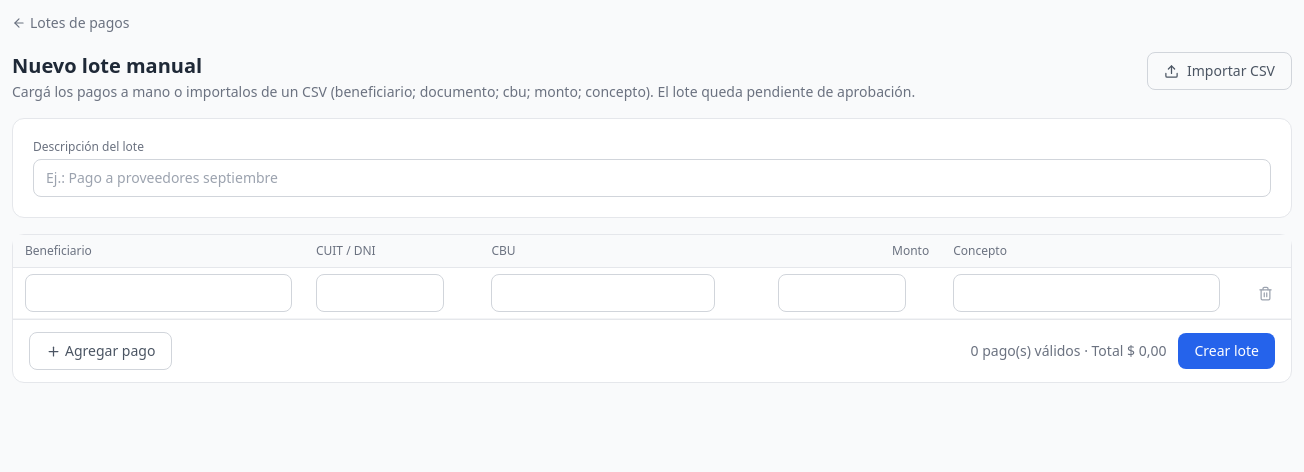
Scenario: NuevoLotePage › no manda filas inválidas
In the field with placeholder "Ej.: Pago a proveedores septiembre": (652, 178) [33,159,1271,197], type "X"
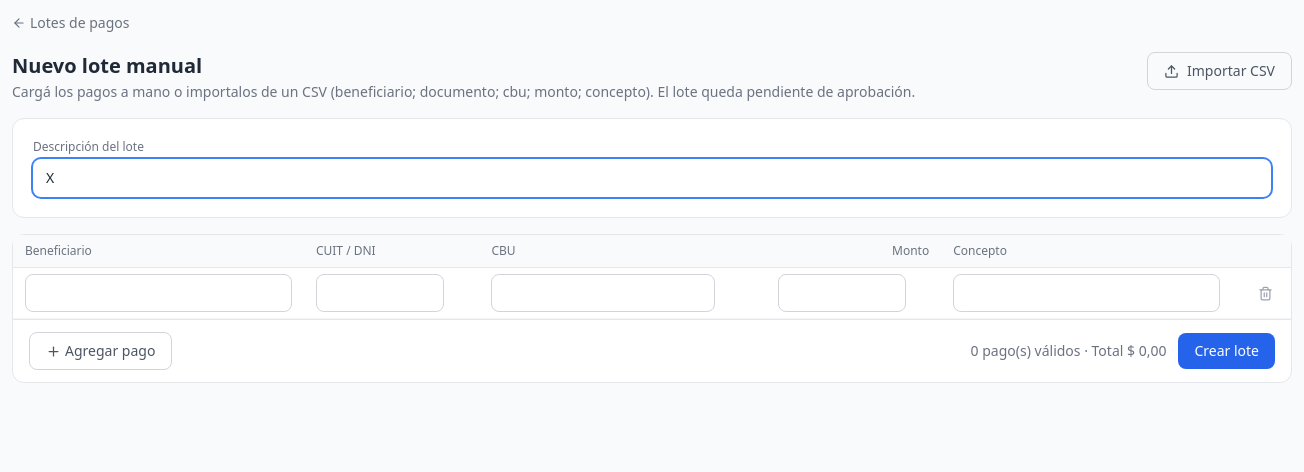
In the field named "Beneficiario 1": (158, 293) [25,274,292,312], type "ACME"
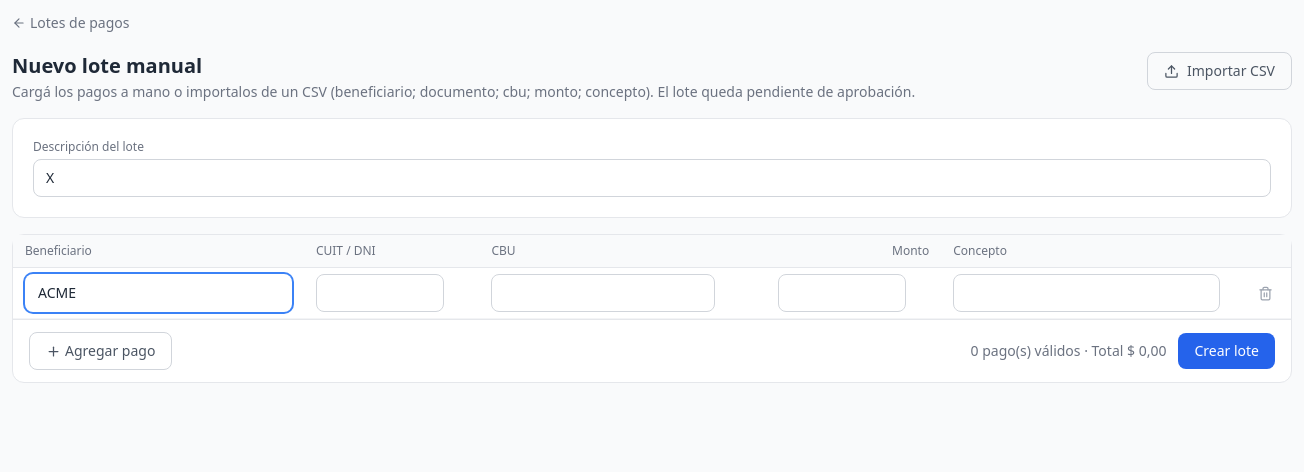
In the field named "CBU 1": (603, 293) [491,274,715,312], type "123"
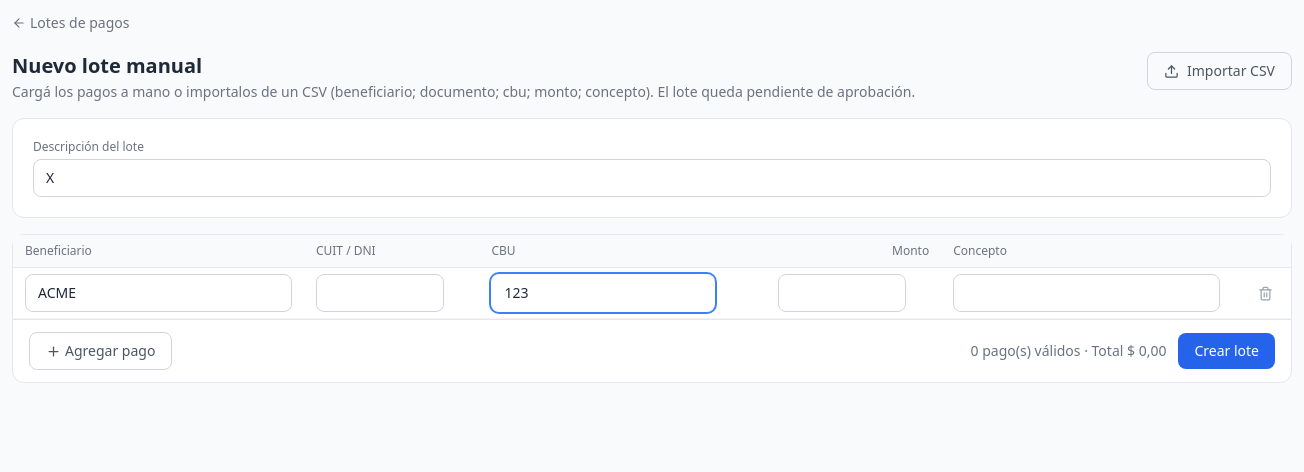
In the field named "Monto 1": (842, 293) [778,274,906,312], type "10"
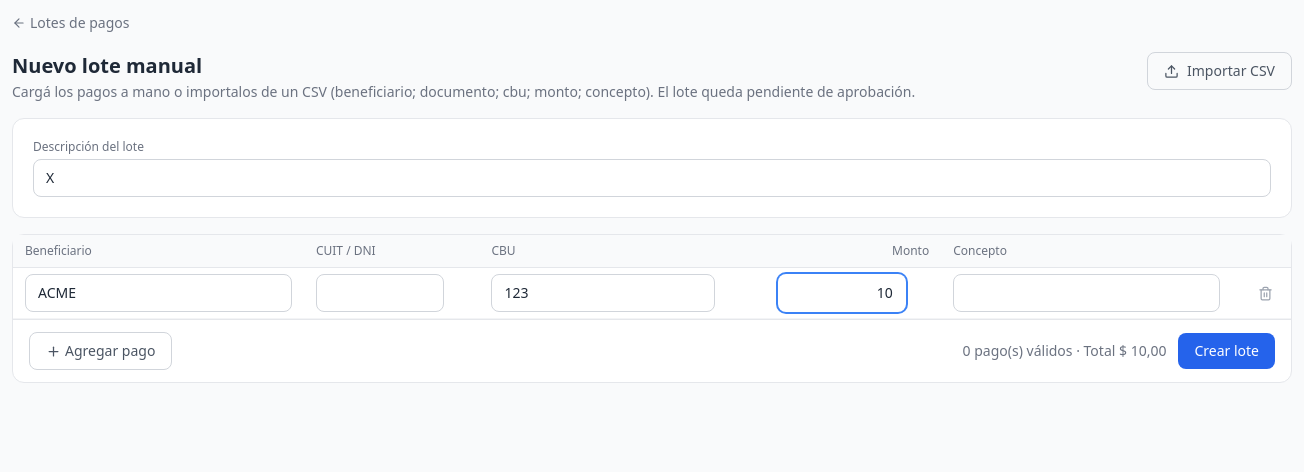
Click the button "Crear lote": (1227, 351) [1178,333,1275,369]
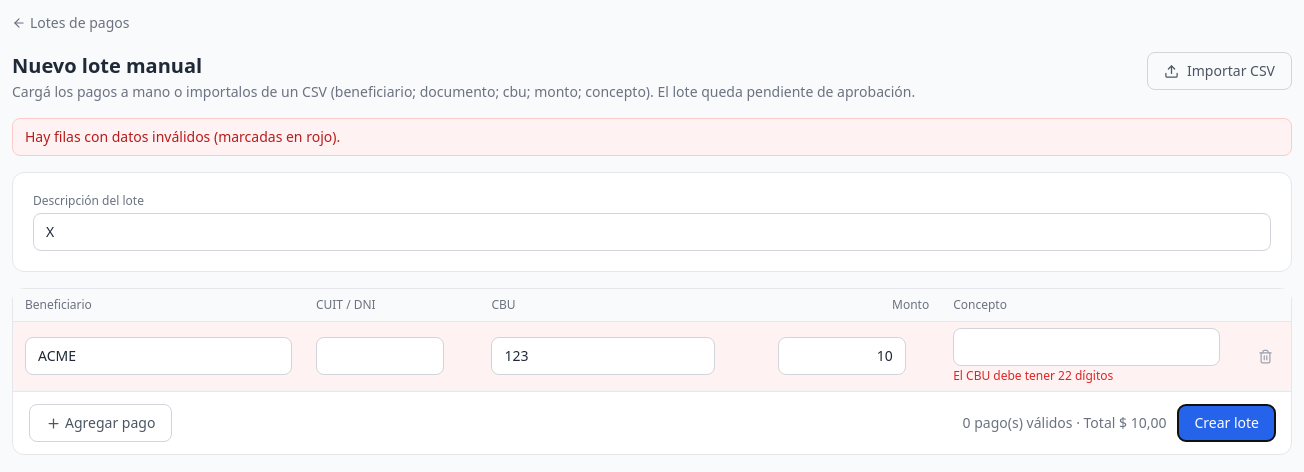
expect the text "El CBU debe tener 22 dígitos" is shown: met, box [953,367,1113,384]
